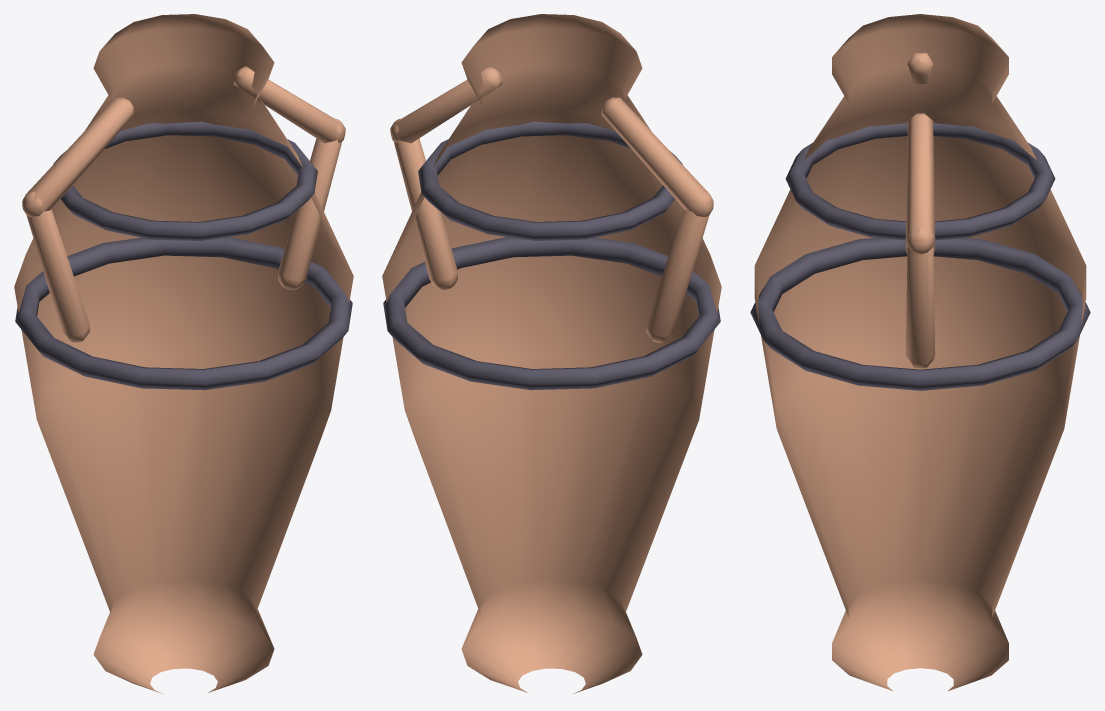
Rendered from mythic-underworld-and-olympus-amphora-tall-3a8ce900__21420.glb.
3 renders of one model, left to right at view 1: azimuth 30°, elevation 25°; view 2: azimuth 150°, elevation 25°; view 3: azimuth 270°, elevation 25°, orthographic.
Visible parts, largest first — view 1: amphora-tall; view 2: amphora-tall; view 3: amphora-tall.
Part boxes in pixels (bbox=[...]): amphora-tall: bbox=[14, 14, 353, 693]; amphora-tall: bbox=[382, 14, 721, 693]; amphora-tall: bbox=[750, 14, 1090, 690].
Size of the model in its own units: 0.6492 by 1.24 by 0.6.
